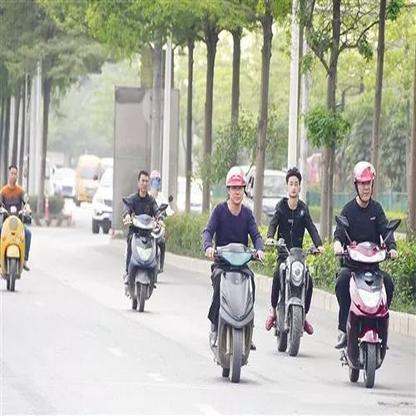target: (332, 159, 404, 390), (203, 162, 266, 386), (268, 166, 324, 362), (121, 169, 167, 314), (2, 163, 37, 295)
